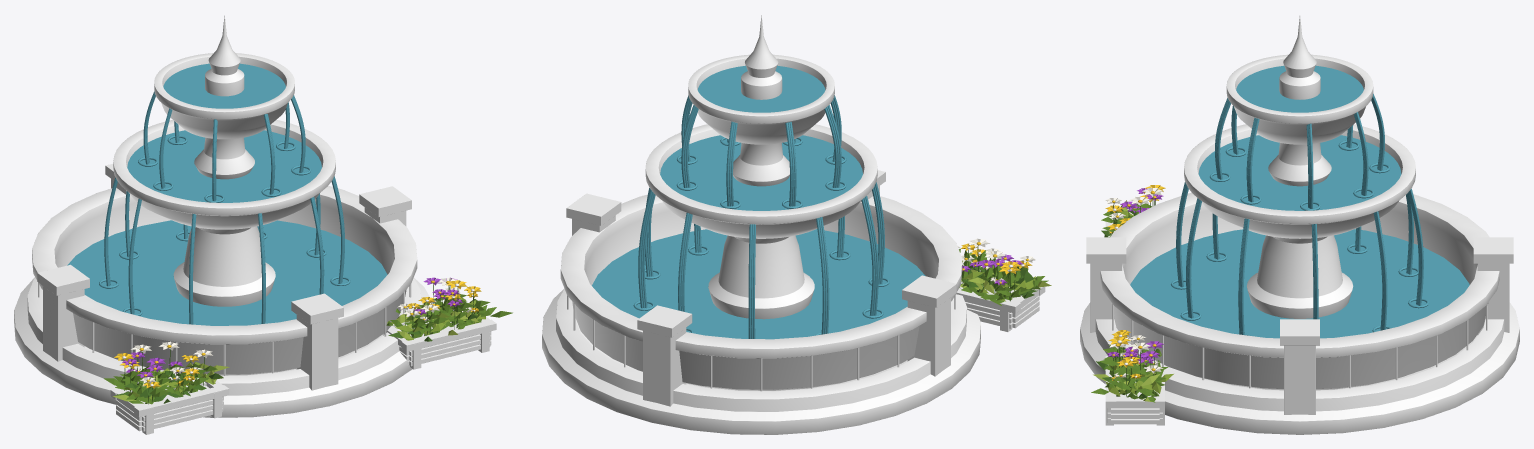
Rendered from 09_fountain.glb.
The picture shows the model from 3 angles, left to right: view 1: azimuth 30°, elevation 25°; view 2: azimuth 150°, elevation 25°; view 3: azimuth 270°, elevation 25°; orthographic projection. The views are drawn at different scales.
Parts seen in each view (by area): view 1: 09_fountain; view 2: 09_fountain; view 3: 09_fountain.
Part boxes in pixels (bbox=[...]): 09_fountain: bbox=[14, 15, 512, 434]; 09_fountain: bbox=[542, 15, 1051, 434]; 09_fountain: bbox=[1080, 16, 1519, 434].
Bounding box in the file's own units: 4.94 × 3.87 × 4.7.
